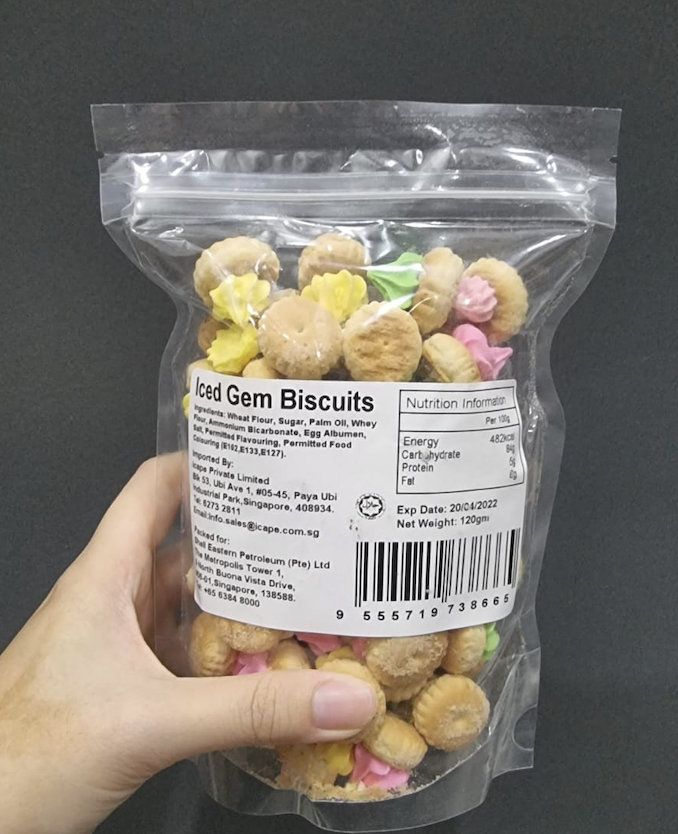Halal: (356, 496, 383, 517)
